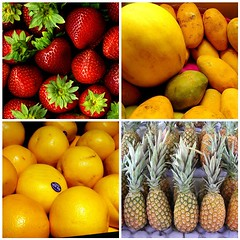Pineapple: (170, 139, 200, 232), (198, 142, 226, 235), (148, 134, 173, 232), (123, 141, 148, 231)
